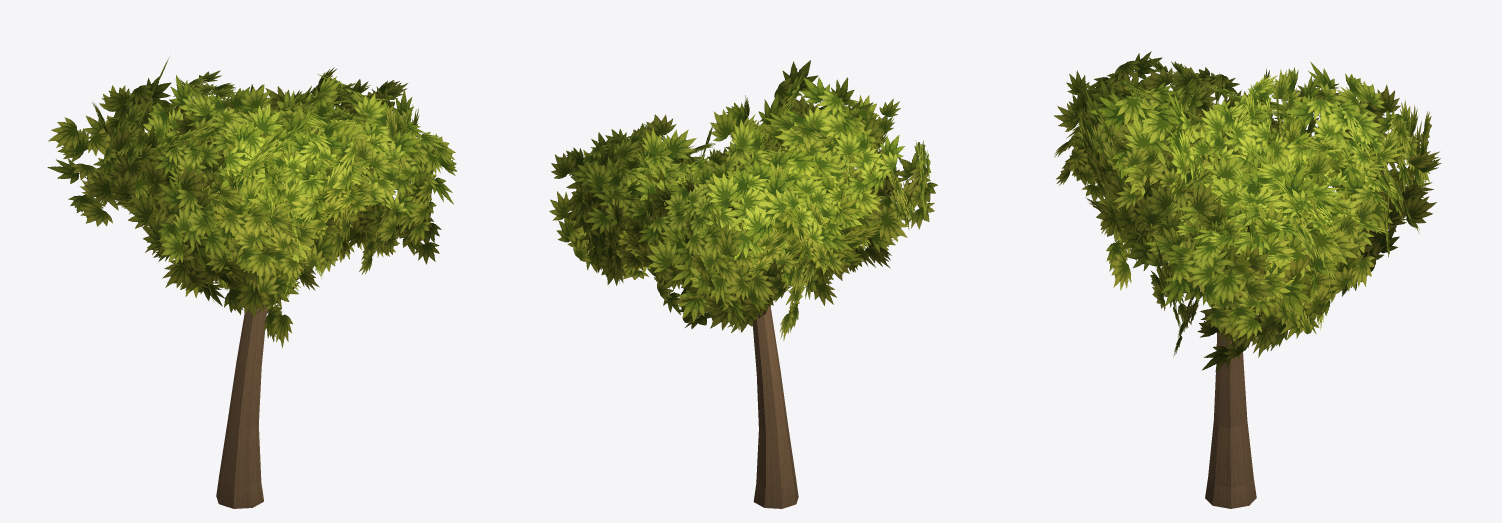
File: tree_broad_y.glb
3 renders of one model, left to right at view 1: azimuth 30°, elevation 25°; view 2: azimuth 150°, elevation 25°; view 3: azimuth 270°, elevation 25°, orthographic. The views are drawn at different scales.
Parts seen in each view (by area): view 1: tree_broad_y; view 2: tree_broad_y; view 3: tree_broad_y.
Boxes of the visible parts, x1=… form: tree_broad_y: x1=47, y1=56, x2=457, y2=508; tree_broad_y: x1=549, y1=60, x2=937, y2=508; tree_broad_y: x1=1053, y1=51, x2=1441, y2=508.
Bounding box in the file's own units: 6.2 × 6.83 × 6.19.
2 materials, 2 textured.
